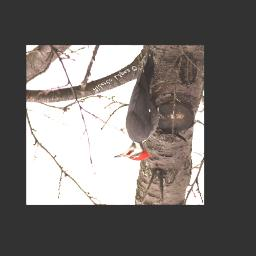Woodpecker: (111, 52, 163, 161)
